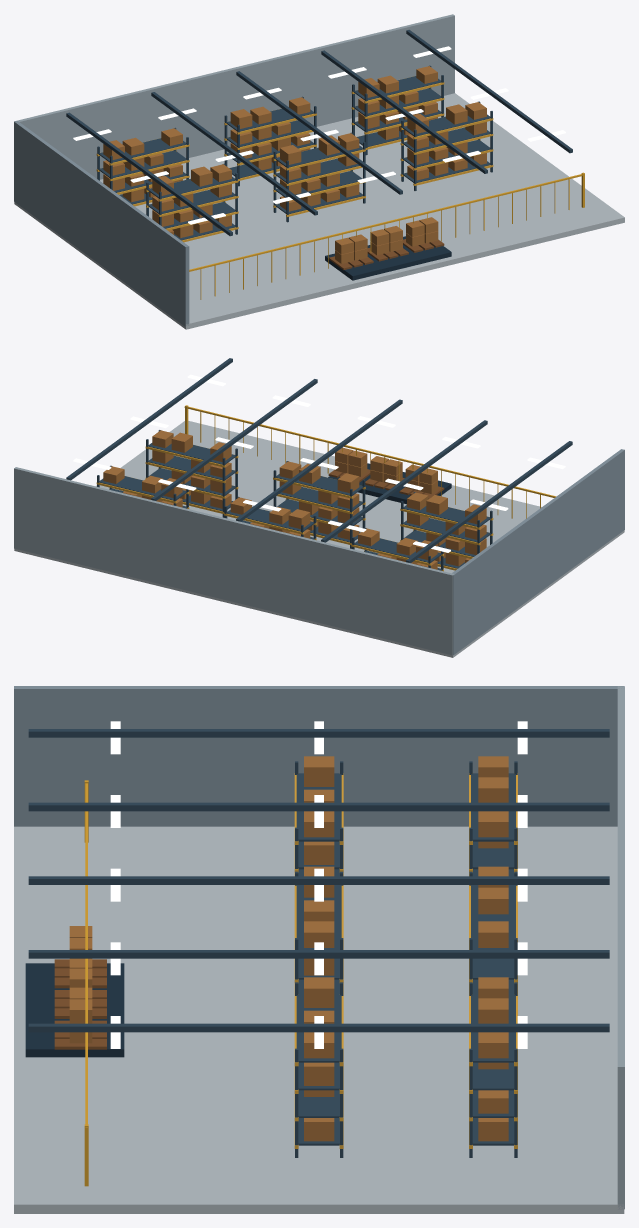
The model's file is warehouse-quarantine.glb.
3 views of the same model, one above another, from view 1: azimuth 30°, elevation 25°; view 2: azimuth 150°, elevation 25°; view 3: azimuth 270°, elevation 25° (orthographic). The views are drawn at different scales.
Visible parts, largest first — view 1: Floor, BackWall, LeftWall, DockPlatform, Zone_Q2_Rack_2_Shelf (×3), SafetyTop, CeilingBeam_0, CeilingBeam_-6, CeilingBeam_12, CeilingBeam_6, CeilingBeam_-12, Zone_Q3_Rack_2_Shelf (×2) (+4 smaller); view 2: BackWall, LeftWall, Floor, CeilingBeam_-12, CeilingBeam_12, CeilingBeam_-6, CeilingBeam_0, CeilingBeam_6, SafetyTop, Zone_Q3_Rack_2_Shelf (×2), Zone_Q2_Rack_2_Shelf (×2), Zone_Q1_Rack_2_Shelf (×2) (+4 smaller); view 3: Floor, LeftWall, CeilingBeam_-6, CeilingBeam_12, CeilingBeam_-12, CeilingBeam_0, CeilingBeam_6, DockPlatform, BackWall, Zone_Q3_Rack_1_Cargo (×4), Zone_Q3_Rack_2_Cargo (×3), Zone_Q2_Rack_1_Shelf (×2) (+10 smaller).
Boxes of the visible parts, x1=… form: Floor: x1=14, y1=93, x2=624, y2=329; BackWall: x1=15, y1=14, x2=454, y2=179; LeftWall: x1=14, y1=121, x2=189, y2=326; DockPlatform: x1=325, y1=236, x2=451, y2=280; Zone_Q2_Rack_2_Shelf (×3): x1=275, y1=145, x2=363, y2=197; SafetyTop: x1=189, y1=174, x2=582, y2=271; CeilingBeam_0: x1=236, y1=71, x2=402, y2=194; CeilingBeam_-6: x1=151, y1=92, x2=317, y2=215; CeilingBeam_12: x1=406, y1=29, x2=572, y2=153; CeilingBeam_6: x1=321, y1=50, x2=487, y2=173; CeilingBeam_-12: x1=66, y1=112, x2=232, y2=236; Zone_Q3_Rack_2_Shelf (×2): x1=403, y1=114, x2=490, y2=151; BackWall: x1=14, y1=467, x2=454, y2=655; LeftWall: x1=452, y1=449, x2=624, y2=655; Floor: x1=14, y1=421, x2=624, y2=657; CeilingBeam_-12: x1=406, y1=441, x2=572, y2=563; CeilingBeam_12: x1=66, y1=358, x2=232, y2=480; CeilingBeam_-6: x1=321, y1=420, x2=487, y2=542; CeilingBeam_0: x1=236, y1=399, x2=402, y2=521; CeilingBeam_6: x1=151, y1=379, x2=317, y2=500; SafetyTop: x1=184, y1=406, x2=556, y2=497; Zone_Q3_Rack_2_Shelf (×2): x1=148, y1=443, x2=235, y2=480; Zone_Q2_Rack_2_Shelf (×2): x1=276, y1=474, x2=363, y2=511; Zone_Q1_Rack_2_Shelf (×2): x1=403, y1=505, x2=490, y2=542; Floor: x1=14, y1=826, x2=624, y2=1213; LeftWall: x1=14, y1=686, x2=624, y2=826; CeilingBeam_-6: x1=28, y1=802, x2=609, y2=811; CeilingBeam_12: x1=28, y1=1023, x2=609, y2=1032; CeilingBeam_-12: x1=28, y1=729, x2=609, y2=737; CeilingBeam_0: x1=28, y1=876, x2=609, y2=884; CeilingBeam_6: x1=28, y1=950, x2=609, y2=958; DockPlatform: x1=25, y1=963, x2=124, y2=1057; BackWall: x1=617, y1=686, x2=624, y2=1209; Zone_Q3_Rack_1_Cargo (×4): x1=478, y1=998, x2=508, y2=1141; Zone_Q3_Rack_2_Cargo (×3): x1=304, y1=977, x2=334, y2=1141; Zone_Q2_Rack_1_Shelf (×2): x1=471, y1=885, x2=515, y2=979.
Size of the model in its own units: 31.02 by 5.58 by 21.02.
